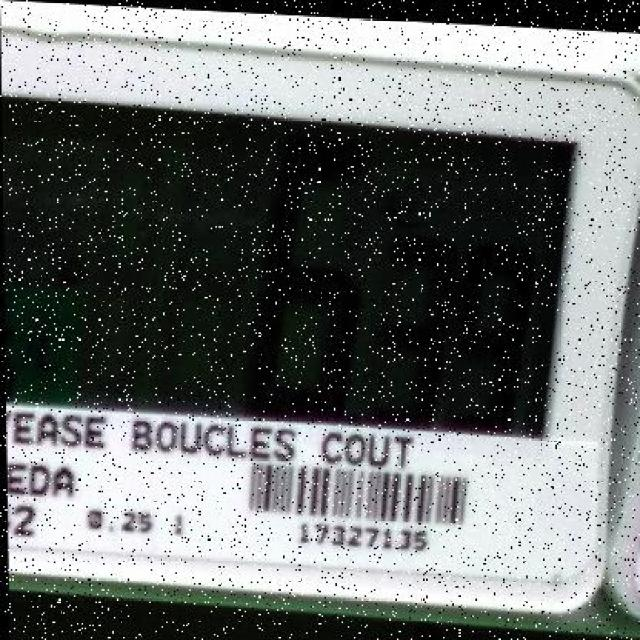display: (1, 95, 578, 444)
frame: (296, 522, 434, 556), (82, 504, 155, 539), (12, 500, 41, 540)
gauge: (1, 0, 640, 617)
